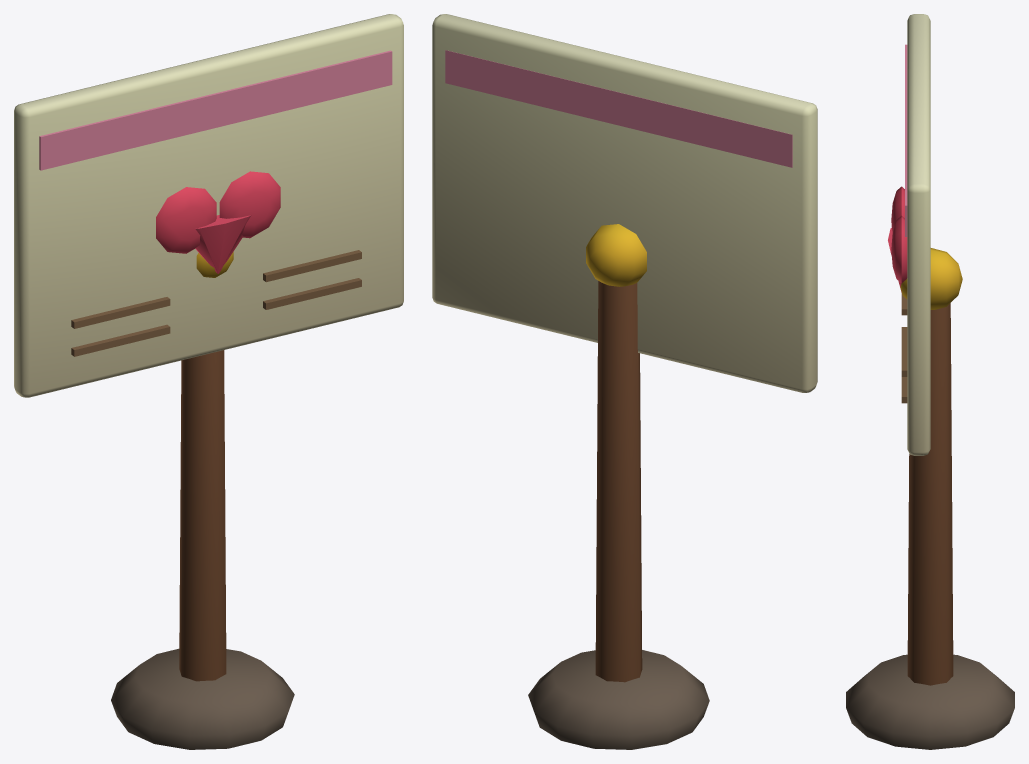
The model's file is fe-teacher.glb.
3 views of the same model, side by side, from view 1: azimuth 30°, elevation 25°; view 2: azimuth 150°, elevation 25°; view 3: azimuth 270°, elevation 25° (orthographic). The views are drawn at different scales.
Parts seen in each view (by area): view 1: fe-teacher; view 2: fe-teacher; view 3: fe-teacher.
Part boxes in pixels (<box>): fe-teacher: <box>14,14,403,749</box>; fe-teacher: <box>432,14,817,749</box>; fe-teacher: <box>846,14,1014,749</box>.
Size of the model in its own units: 0.72 by 1.18 by 0.2925.
